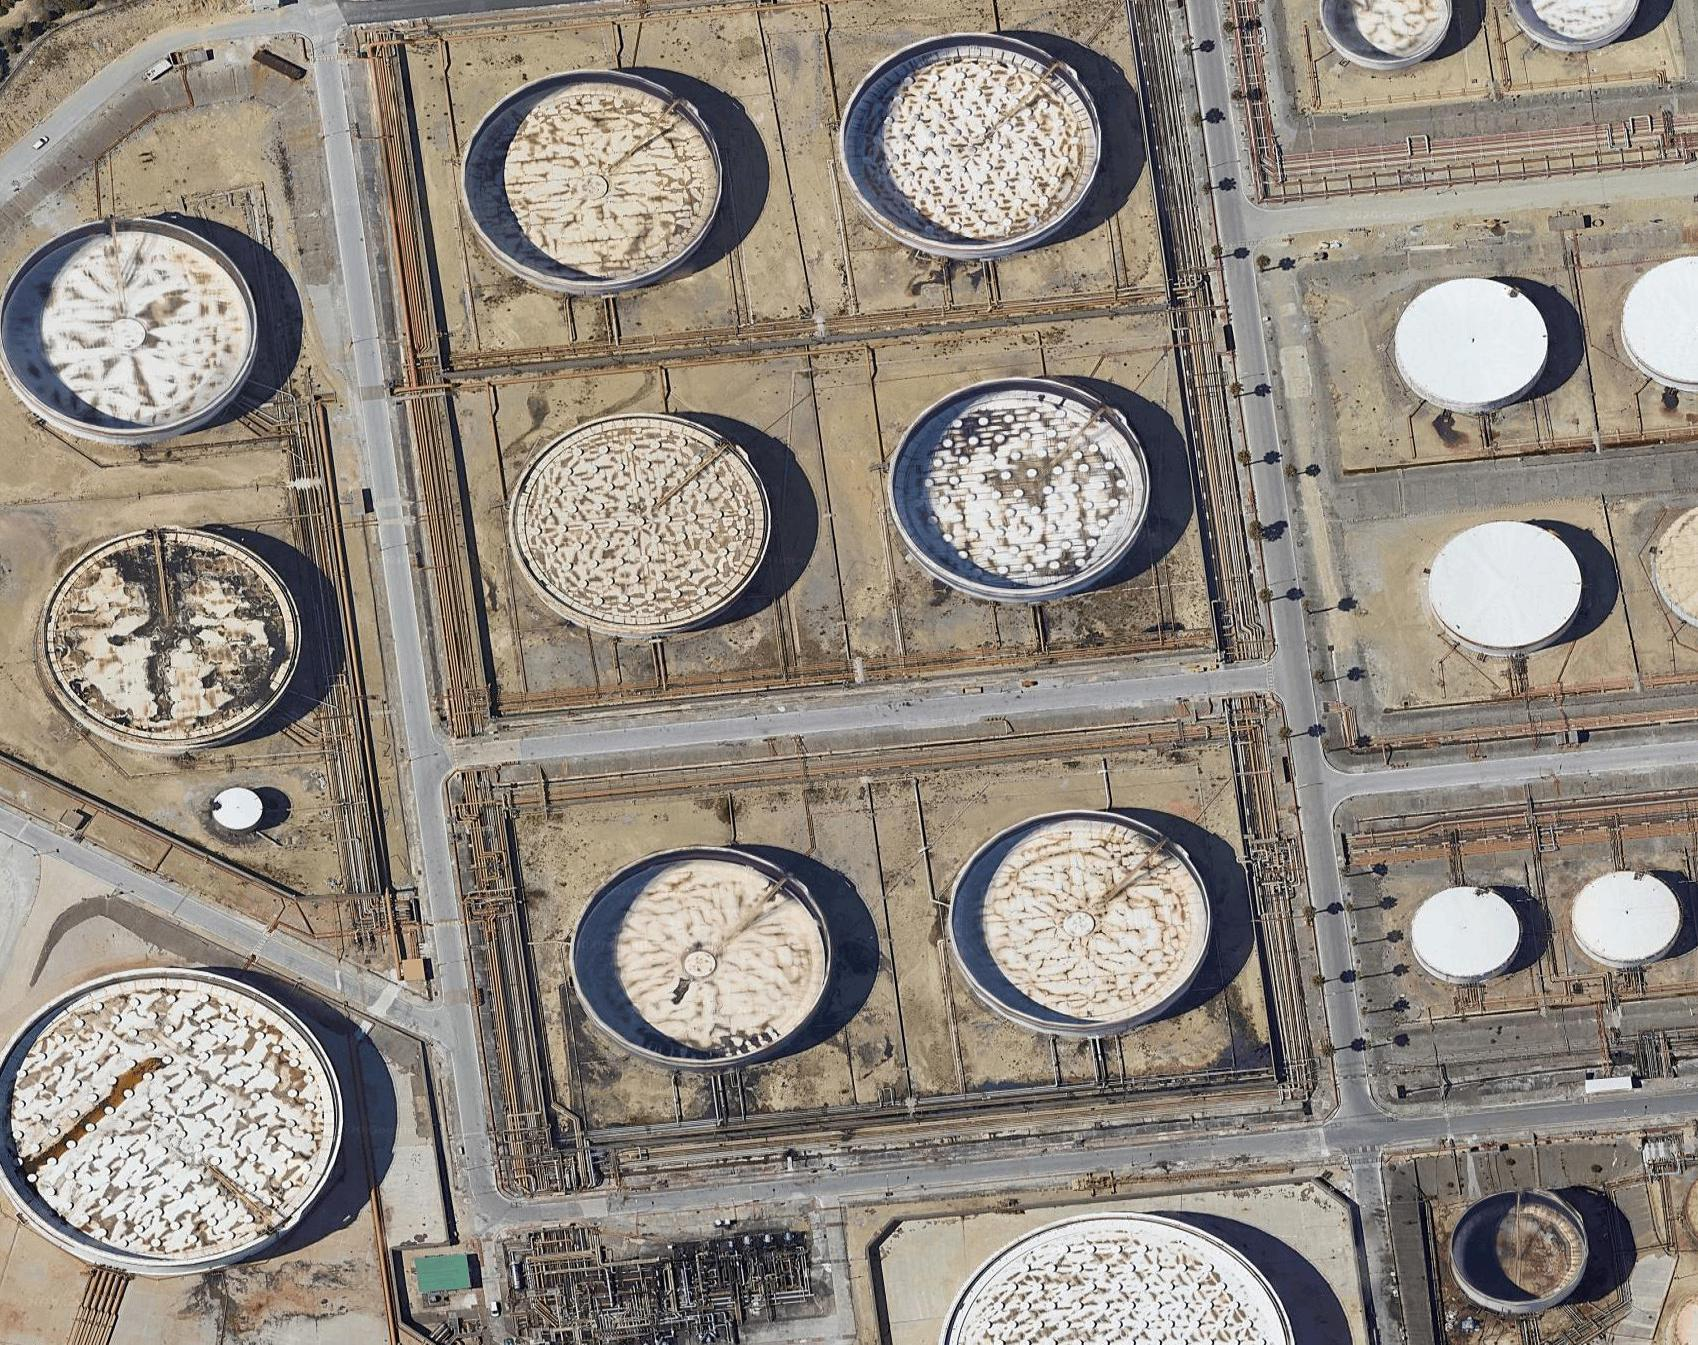storage-tank: (1, 947, 362, 1271), (1, 214, 280, 445), (514, 389, 770, 638), (37, 515, 296, 750), (571, 842, 832, 1074), (944, 812, 1216, 1032), (894, 372, 1155, 599), (462, 65, 718, 291), (849, 36, 1101, 256), (925, 1204, 1313, 1345), (1422, 513, 1596, 655), (1392, 273, 1551, 413), (1444, 1185, 1600, 1312), (1613, 245, 1698, 401), (1414, 885, 1527, 984), (1575, 867, 1681, 967), (1324, 1, 1458, 69), (1495, 1, 1659, 50), (207, 784, 260, 832)
